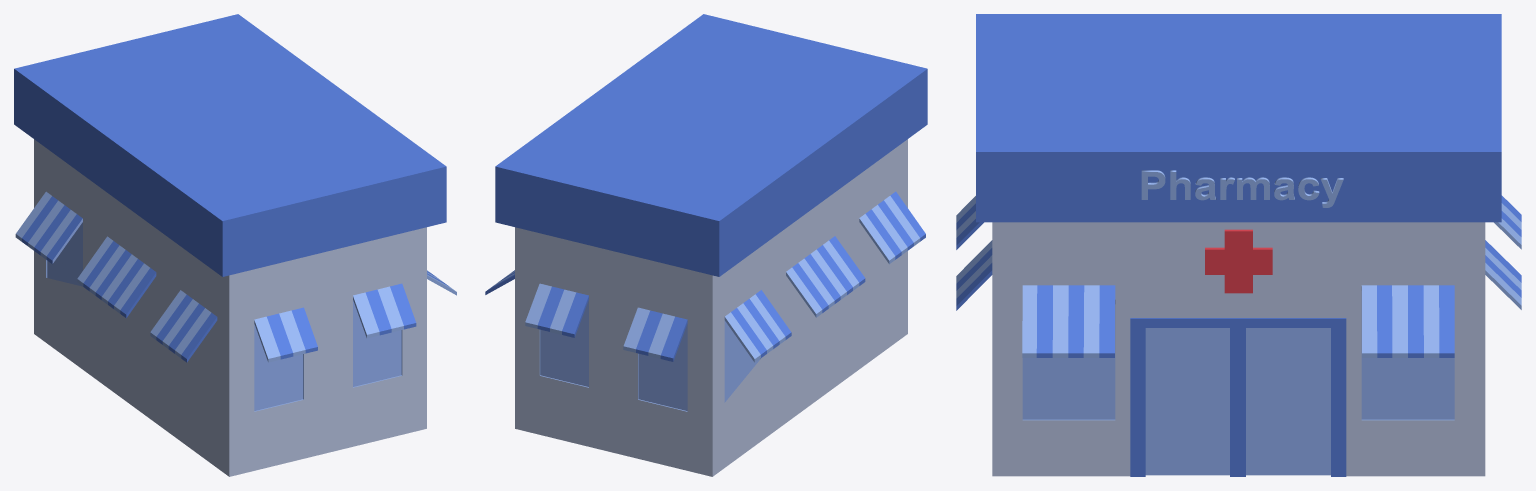
Rendered from pharmacy.fbx.
3 views of the same model, side by side, from view 1: azimuth 30°, elevation 25°; view 2: azimuth 150°, elevation 25°; view 3: azimuth 270°, elevation 25° (orthographic). The views are drawn at different scales.
Parts seen in each view (by area): view 1: Text; view 2: Text; view 3: Text.
Part boxes in pixels (x1,y1,x2,y2): Text: (14,14,456,476); Text: (485,14,927,476); Text: (956,14,1521,476).
Bounding box in the file's own units: 1910 × 1786 × 2753.
